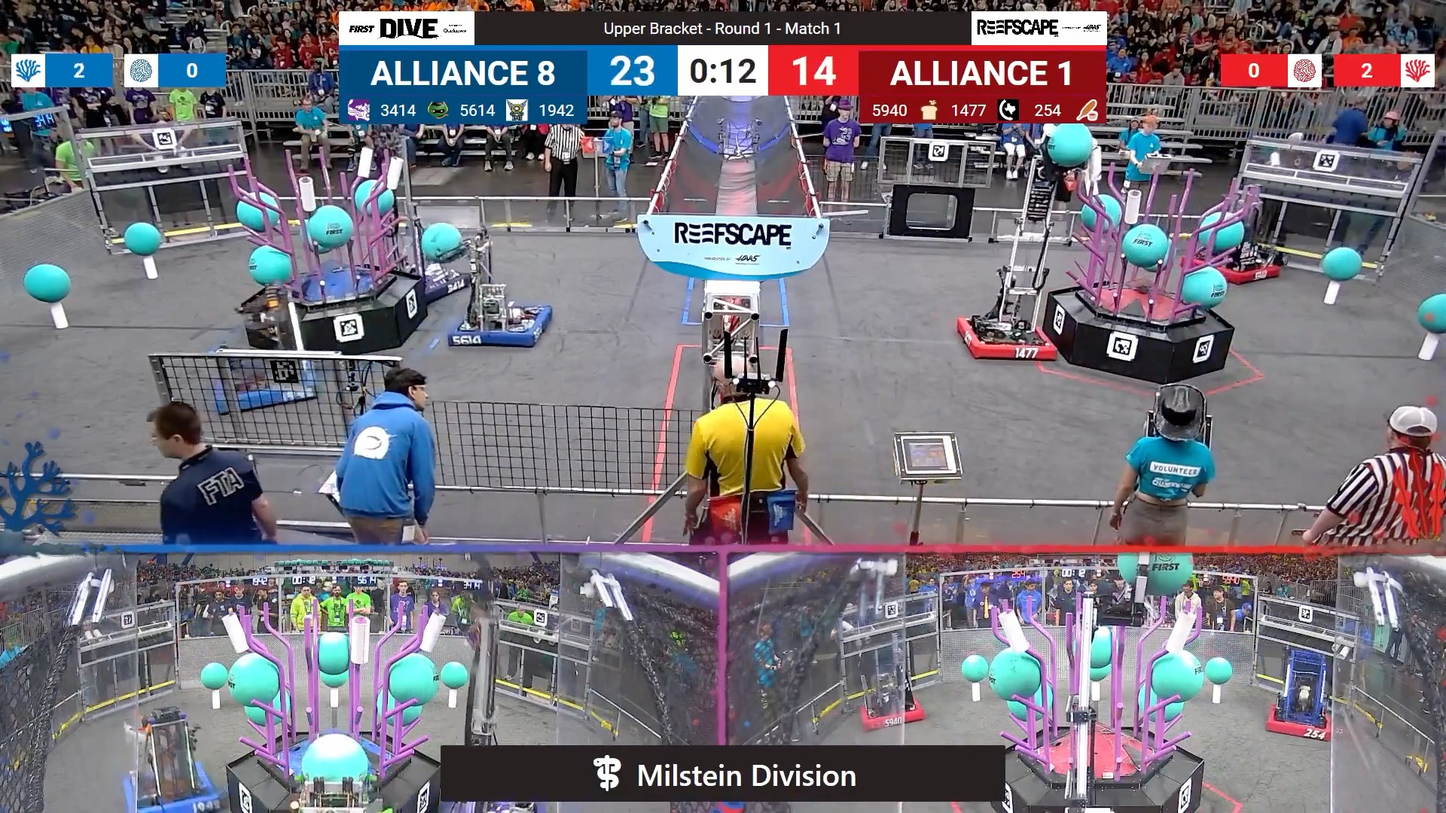bumpers: (208, 347, 323, 418), (443, 291, 559, 352), (117, 752, 225, 813), (955, 310, 1058, 368), (1184, 241, 1287, 290), (1262, 694, 1340, 748), (860, 689, 926, 734)
